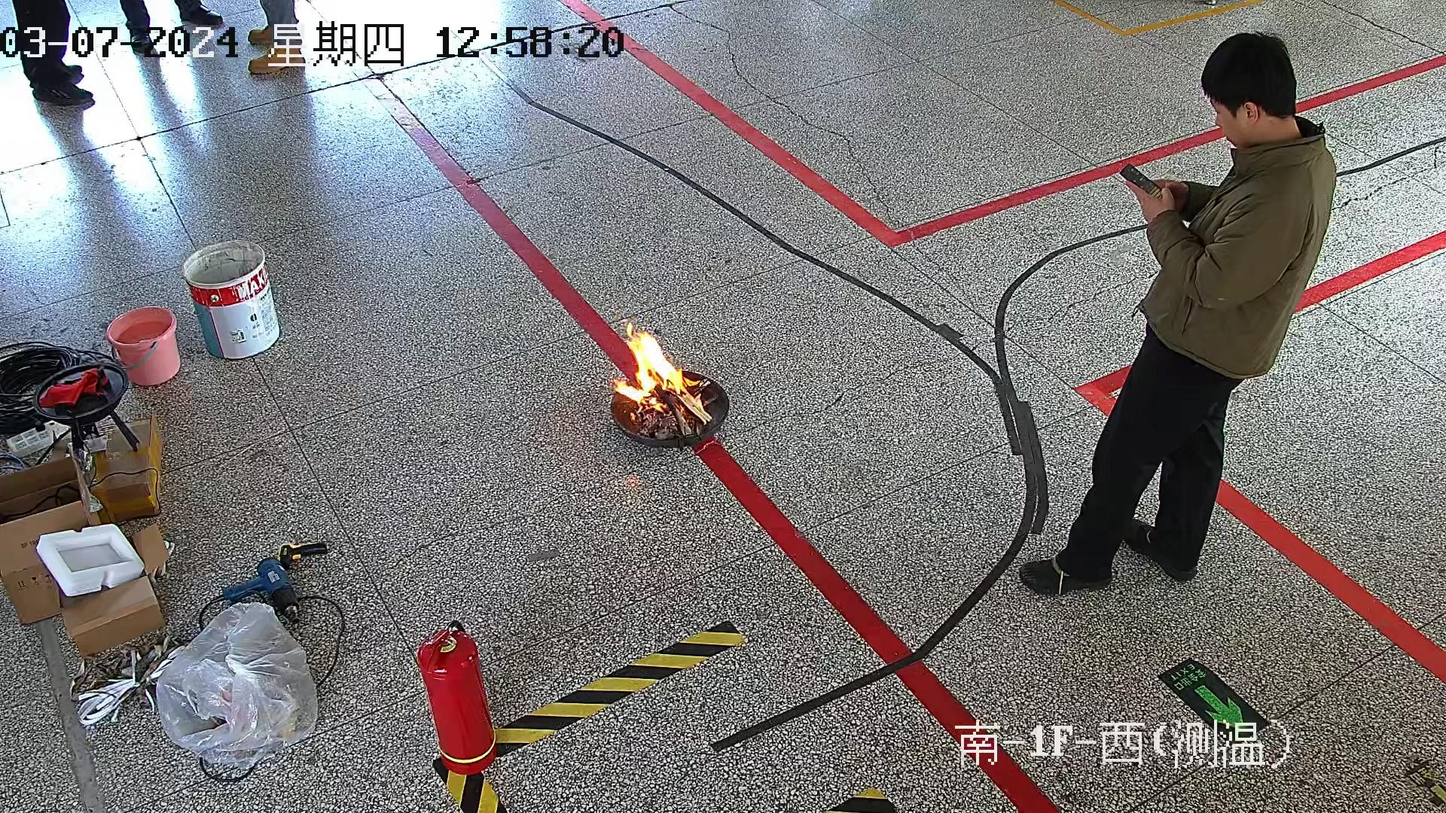fire: (615, 321, 698, 433)
